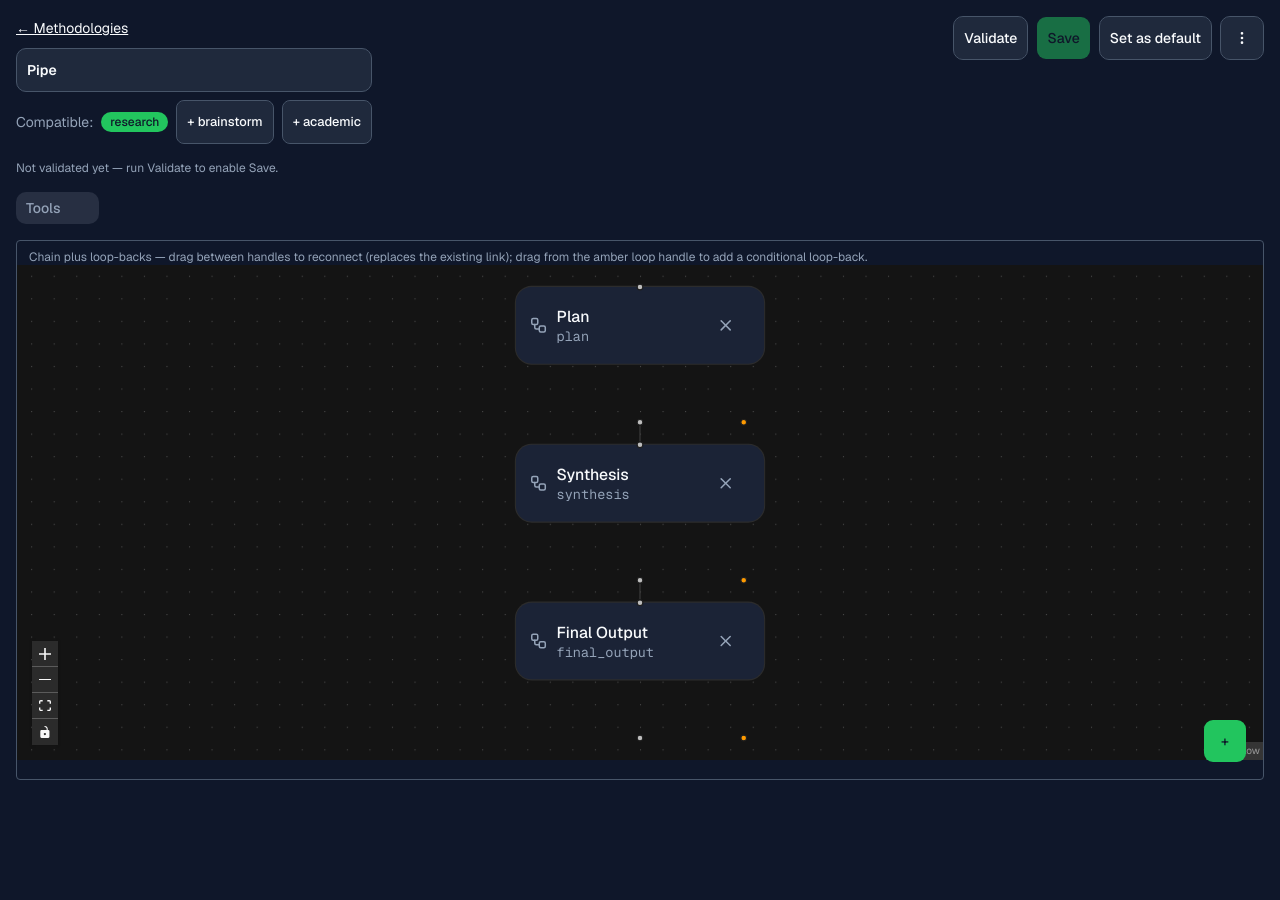
Test: BuilderPage › refuses to save an empty canvas with no PUT
Expected: the element with test id "stage-card-plan" is shown, 516,287 -> 764,364
Click the button named "Delete Plan" at (726, 325), box 701,300 -> 750,350
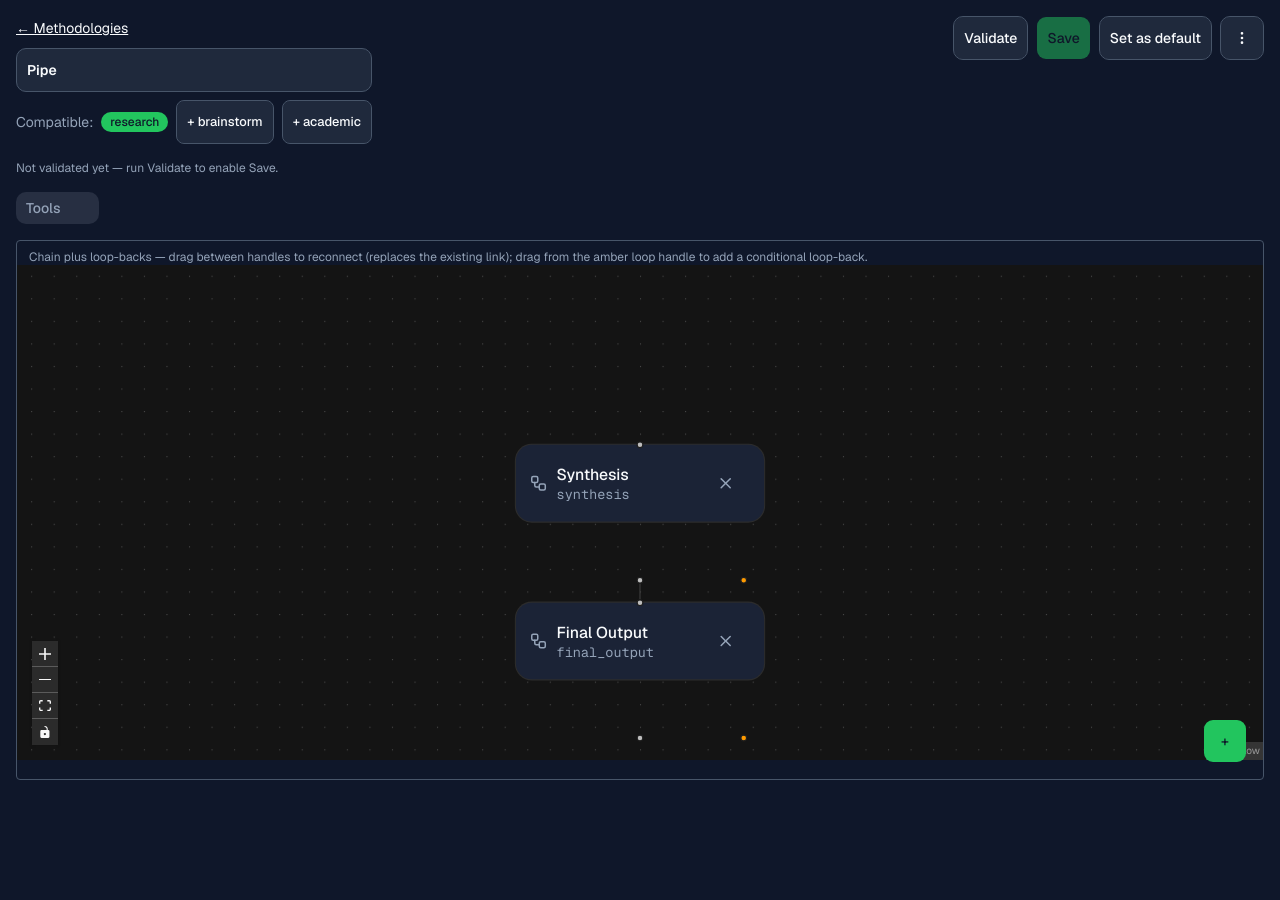
Now the element with test id "stage-card-plan" is gone
Click the button named "Delete Synthesis" at (726, 483), box 701,458 -> 750,508
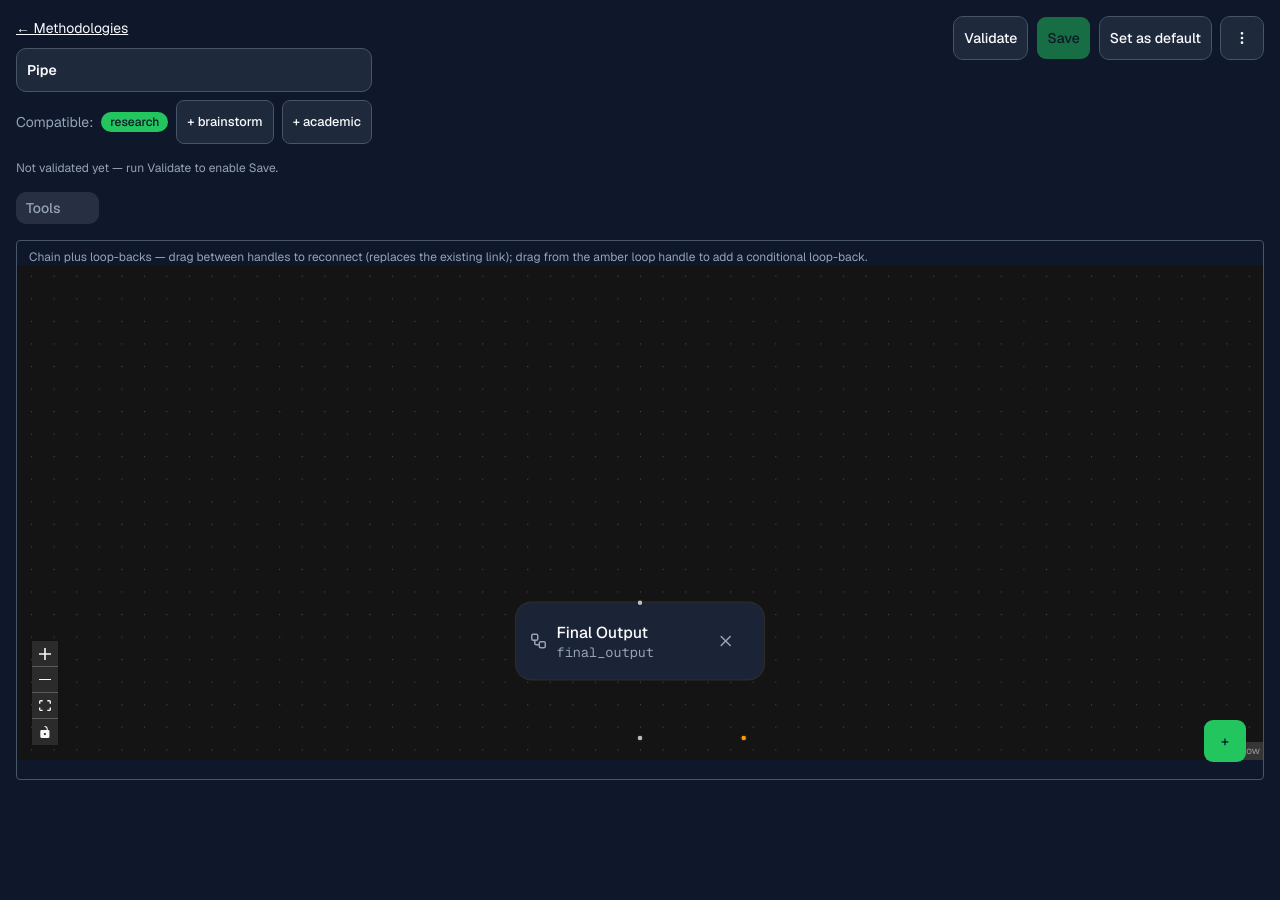
Now the element with test id "stage-card-synthesis" is gone
Click the button named "Delete Final Output" at (726, 641), box 701,616 -> 750,666
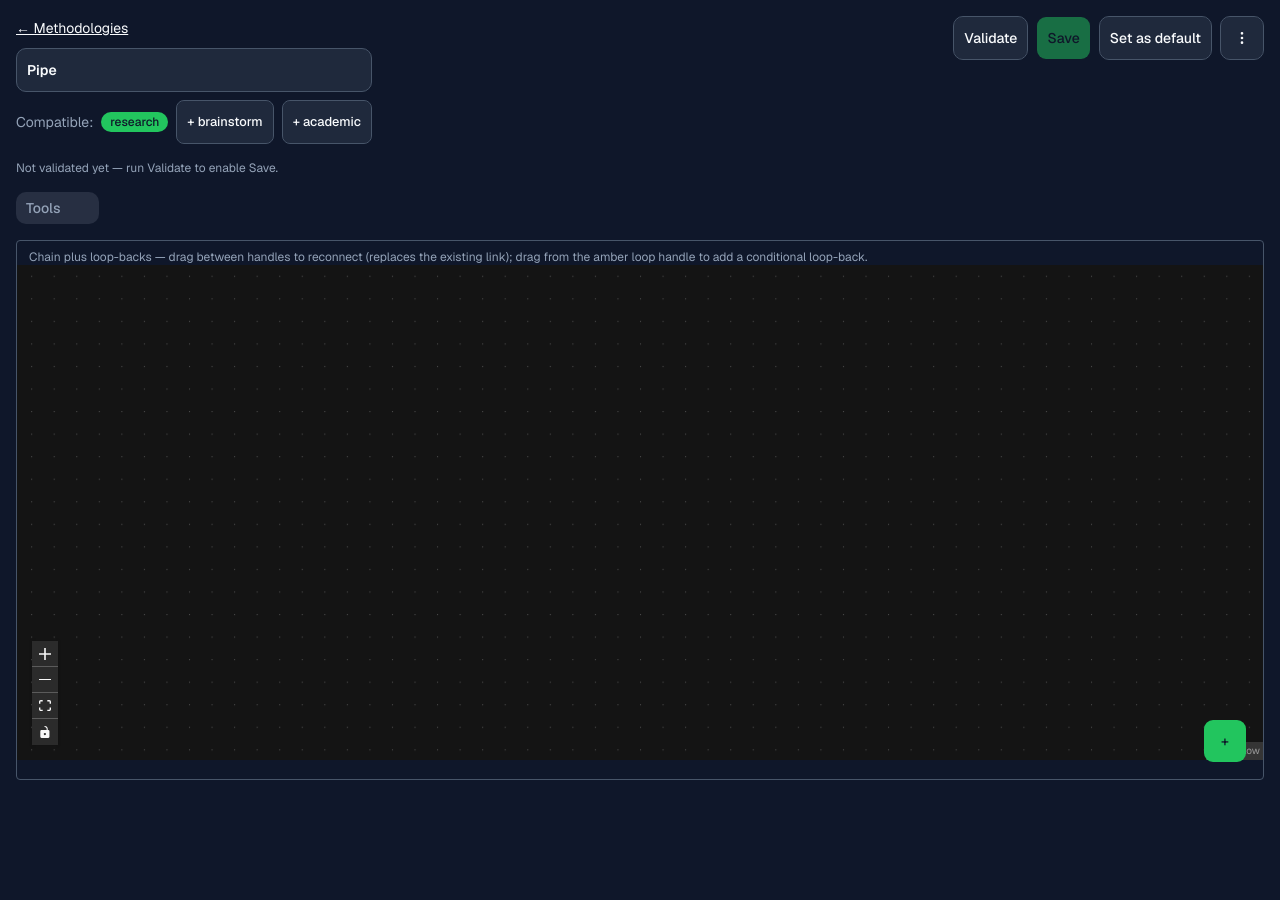
Now the element with test id "stage-card-final_output" is gone
Click the button "Validate" at (991, 38), box 953,16 -> 1028,60
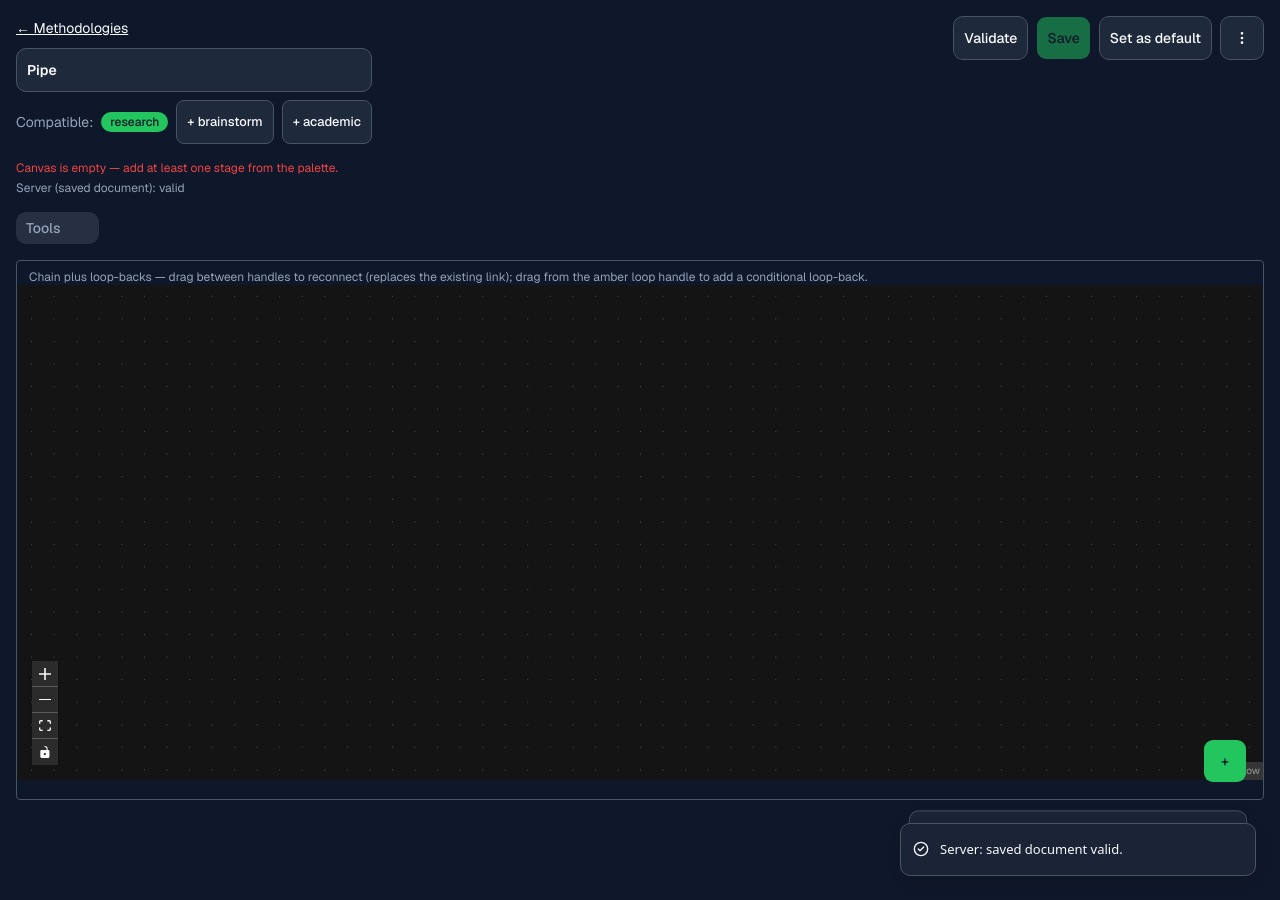
Expected: the button "Save" is disabled, 1036,16 -> 1091,60
Now the list item "Canvas is empty — add at least one stage from the palette." is shown, box 16,160 -> 338,176
